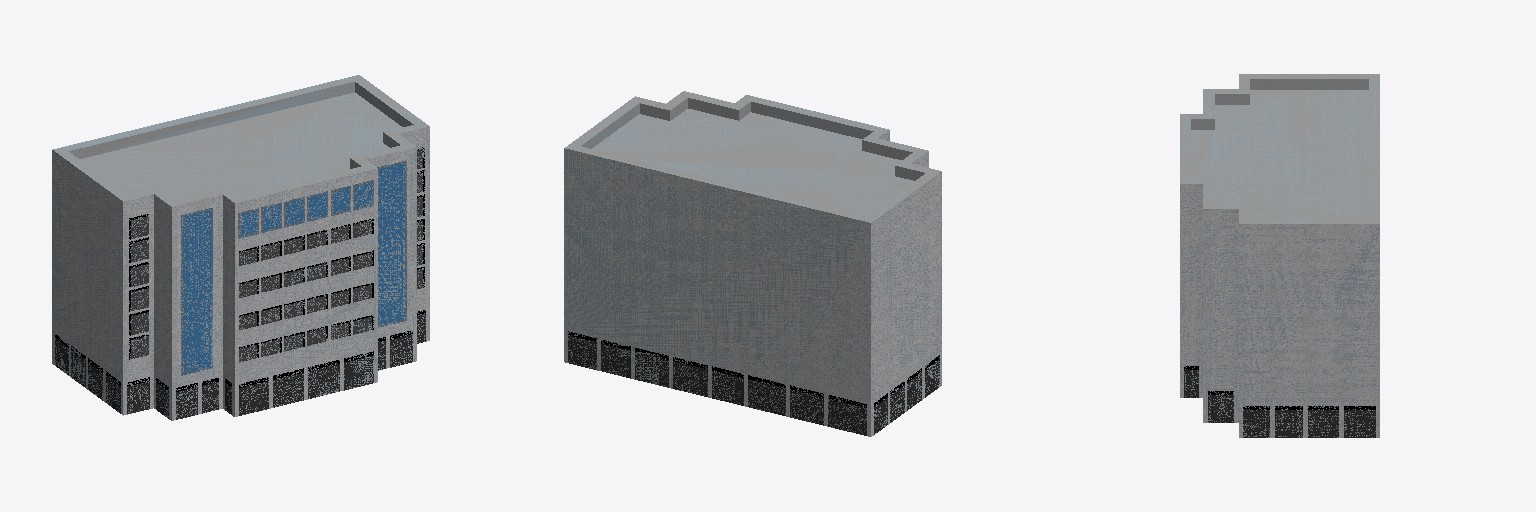
3 renders of one model, left to right at view 1: azimuth 30°, elevation 25°; view 2: azimuth 150°, elevation 25°; view 3: azimuth 270°, elevation 25°, orthographic.
Visible parts, largest first — view 1: Mesh98 budova1_1 Model, Mesh80 oknooo_velke1 budova1_1 Model, Mesh83 oknooo_velke2 budova1_1 Model, Mesh63 okna_modre1 budova1_1 Model, Mesh66 okna_modre1 budova1_1 Model, Mesh61 okna_modre1 budova1_1 Model, Mesh62 okna_modre1 budova1_1 Model, Mesh64 okna_modre1 budova1_1 Model; view 2: Mesh98 budova1_1 Model; view 3: Mesh98 budova1_1 Model.
Boxes of the visible parts, x1,y1,x2,y2 form: Mesh98 budova1_1 Model: [52, 75, 429, 420]; Mesh80 oknooo_velke1 budova1_1 Model: [181, 208, 212, 375]; Mesh83 oknooo_velke2 budova1_1 Model: [377, 160, 406, 327]; Mesh63 okna_modre1 budova1_1 Model: [238, 208, 258, 238]; Mesh66 okna_modre1 budova1_1 Model: [284, 197, 304, 227]; Mesh61 okna_modre1 budova1_1 Model: [353, 180, 373, 210]; Mesh62 okna_modre1 budova1_1 Model: [261, 202, 281, 232]; Mesh64 okna_modre1 budova1_1 Model: [307, 191, 327, 221]; Mesh98 budova1_1 Model: [564, 91, 941, 436]; Mesh98 budova1_1 Model: [1180, 74, 1379, 437].
Bounding box in the file's own units: 15 × 10 × 8.5.
Materials: 9 (1 with a texture image).